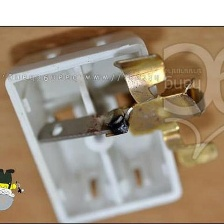three_eye_plug: (0, 27, 221, 222)
